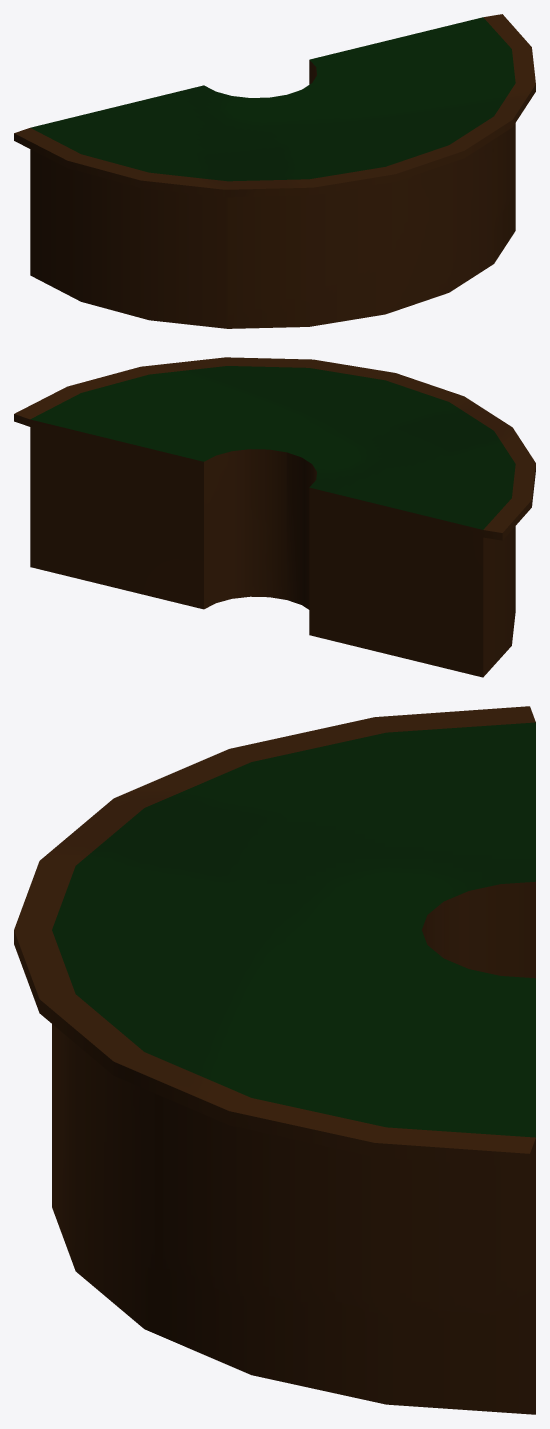
Rendered from blackjack-table-2.glb.
3 views of the same model, one above another, from view 1: azimuth 30°, elevation 25°; view 2: azimuth 150°, elevation 25°; view 3: azimuth 270°, elevation 25° (orthographic). The views are drawn at different scales.
Parts seen in each view (by area): view 1: Table_Mesh; view 2: Table_Mesh; view 3: Table_Mesh.
Boxes of the visible parts, left/top/right/bottom form: Table_Mesh: left=14, top=14, right=535, bottom=328; Table_Mesh: left=14, top=357, right=535, bottom=677; Table_Mesh: left=14, top=706, right=535, bottom=1414.
Size of the model in its own units: 3.6 by 1.04 by 1.77.
1 material, 1 textured.
